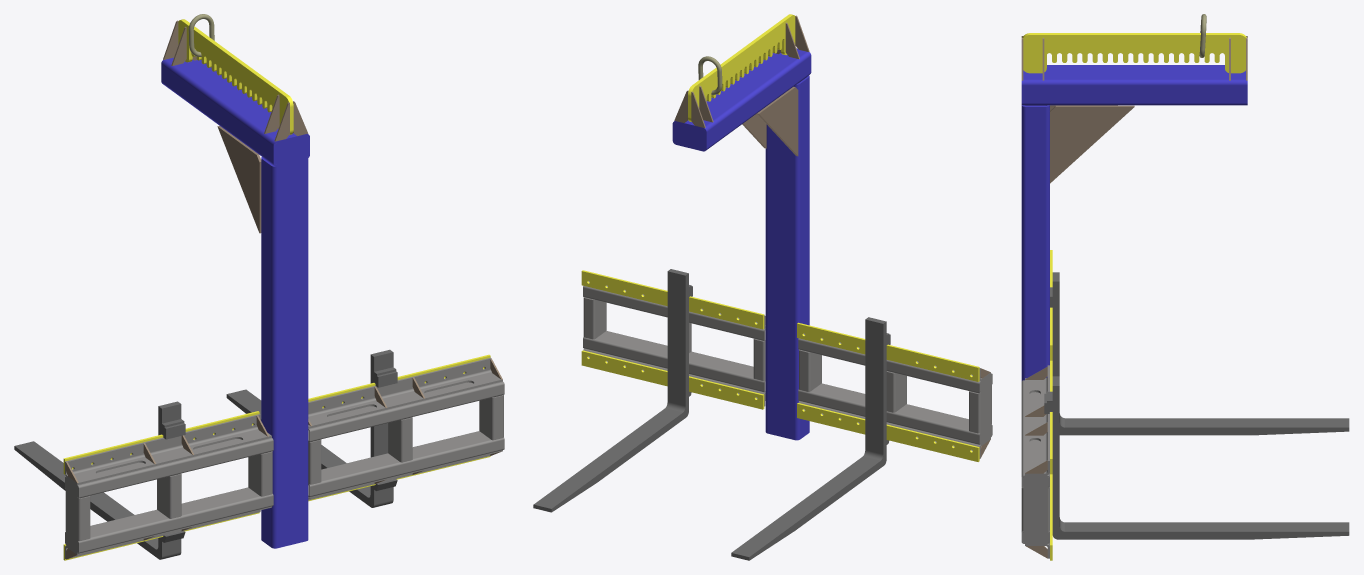
Rendered from GARFO.glb.
The picture shows the model from 3 angles, left to right: view 1: azimuth 30°, elevation 25°; view 2: azimuth 150°, elevation 25°; view 3: azimuth 270°, elevation 25°; orthographic projection. The views are drawn at different scales.
Visible parts, largest first — view 1: matte steel, color, color-5, color-3, polished steel; view 2: color, matte steel, color-3, color-5, polished steel; view 3: color, color-5, color-3, polished steel, matte steel.
Part boxes in pixels (x1=…): matte steel: x1=65, y1=357, x2=504, y2=558; color: x1=161, y1=57, x2=309, y2=548; color-5: x1=14, y1=349, x2=397, y2=559; color-3: x1=63, y1=19, x2=490, y2=560; polished steel: x1=66, y1=20, x2=502, y2=559; color: x1=672, y1=48, x2=811, y2=440; matte steel: x1=583, y1=281, x2=992, y2=458; color-3: x1=581, y1=14, x2=979, y2=461; color-5: x1=533, y1=269, x2=890, y2=560; polished steel: x1=674, y1=15, x2=990, y2=457; color: x1=1021, y1=65, x2=1247, y2=381; color-5: x1=1044, y1=272, x2=1349, y2=539; color-3: x1=1022, y1=33, x2=1246, y2=560; polished steel: x1=1021, y1=36, x2=1247, y2=558; matte steel: x1=1021, y1=365, x2=1049, y2=558.
Size of the model in its own units: 1.75 by 1.82 by 1.16.
